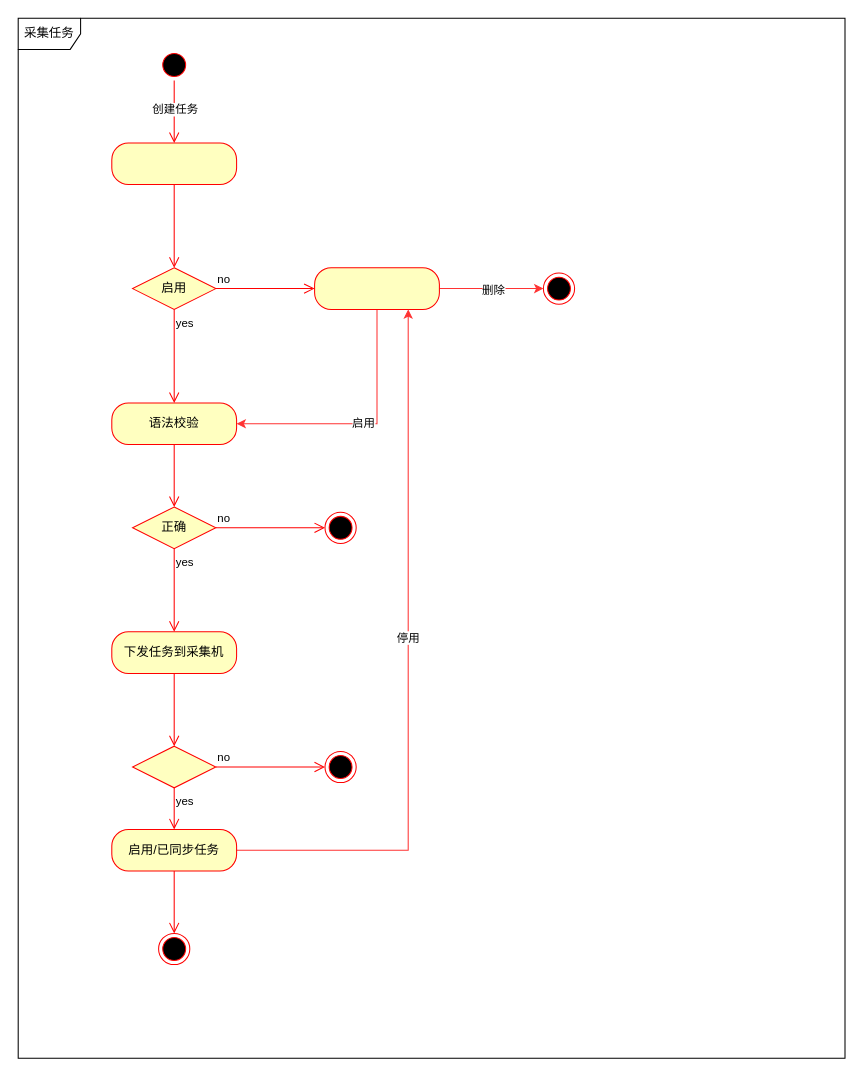
This 863x1076 diagram has some shape labels left out. The shapes that lost their labels are listed below. From the top down, each one's centre as x and y in pixels, then its label:
At point 174,163: "保存任务".
At point 376,288: "停用/未同步任务".
At point 174,766: "成功".
